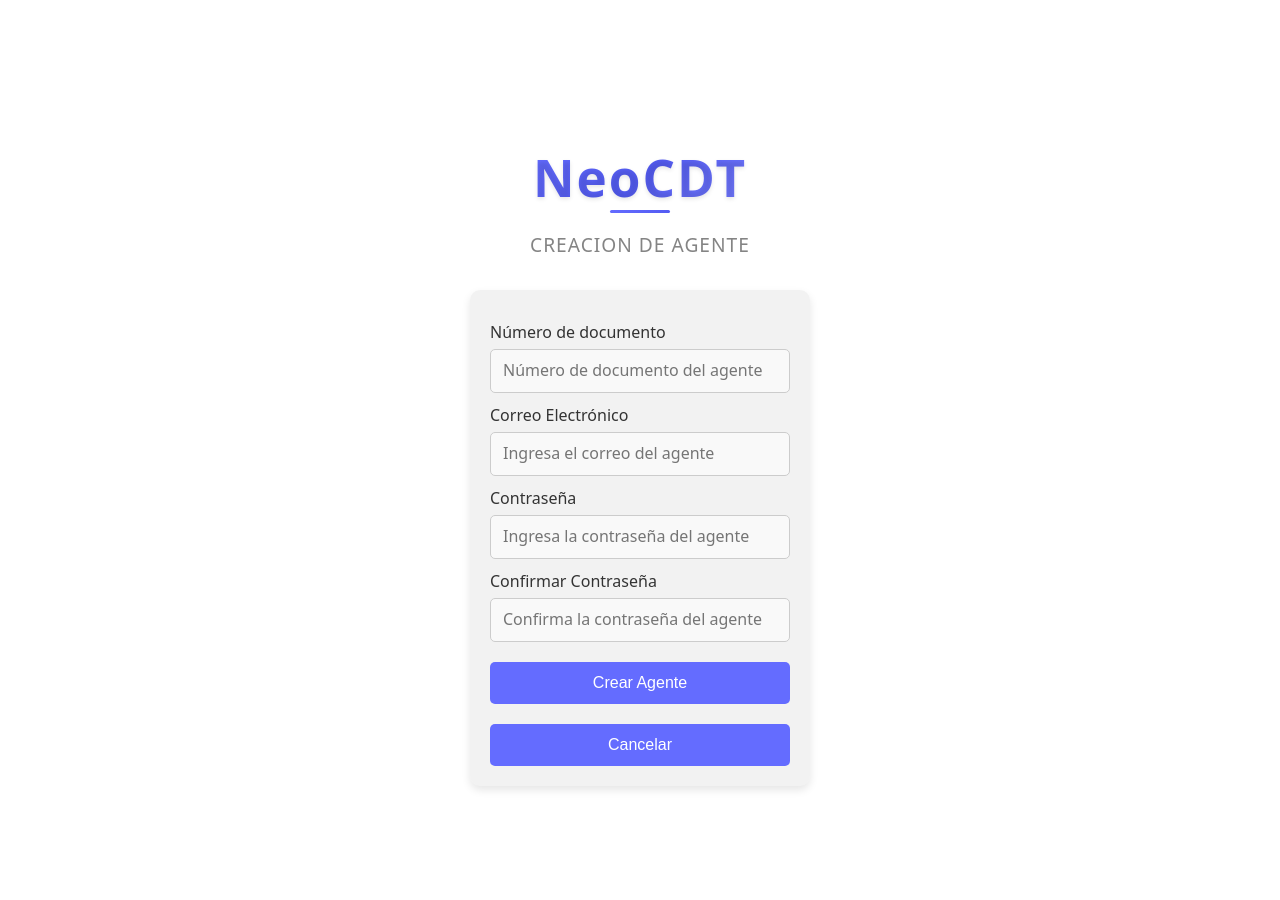
it: muestra popup de éxito cuando axios.post responde correctamente
This screenshot has width=1280, height=900.
llenar con datos válidos
In the field with placeholder "Número de documento del agente": (640, 371) [490,349,790,393], type "987654"
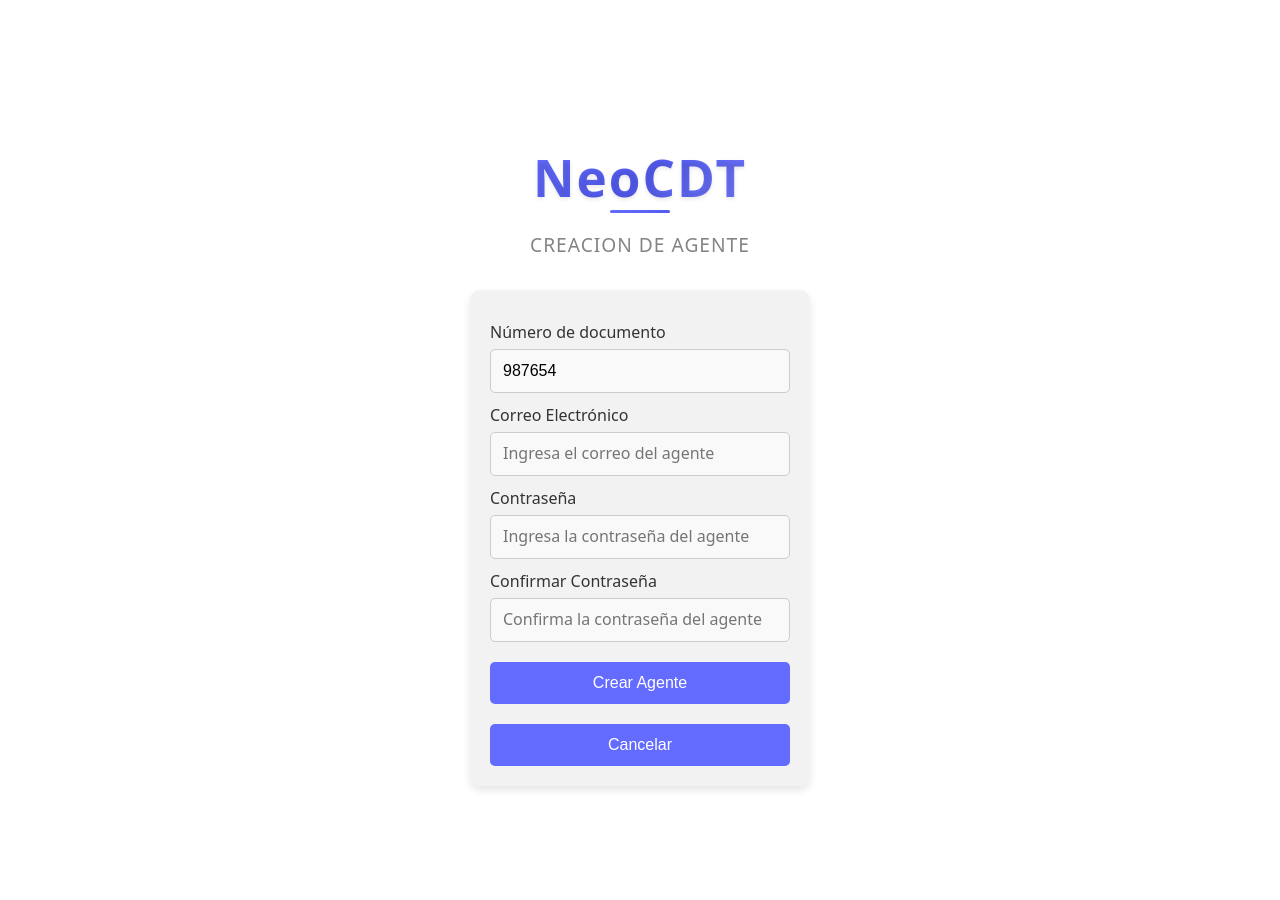
In the field with placeholder "Ingresa el correo del agente": (640, 454) [490,432,790,476], type "nuevoagente@test.com"
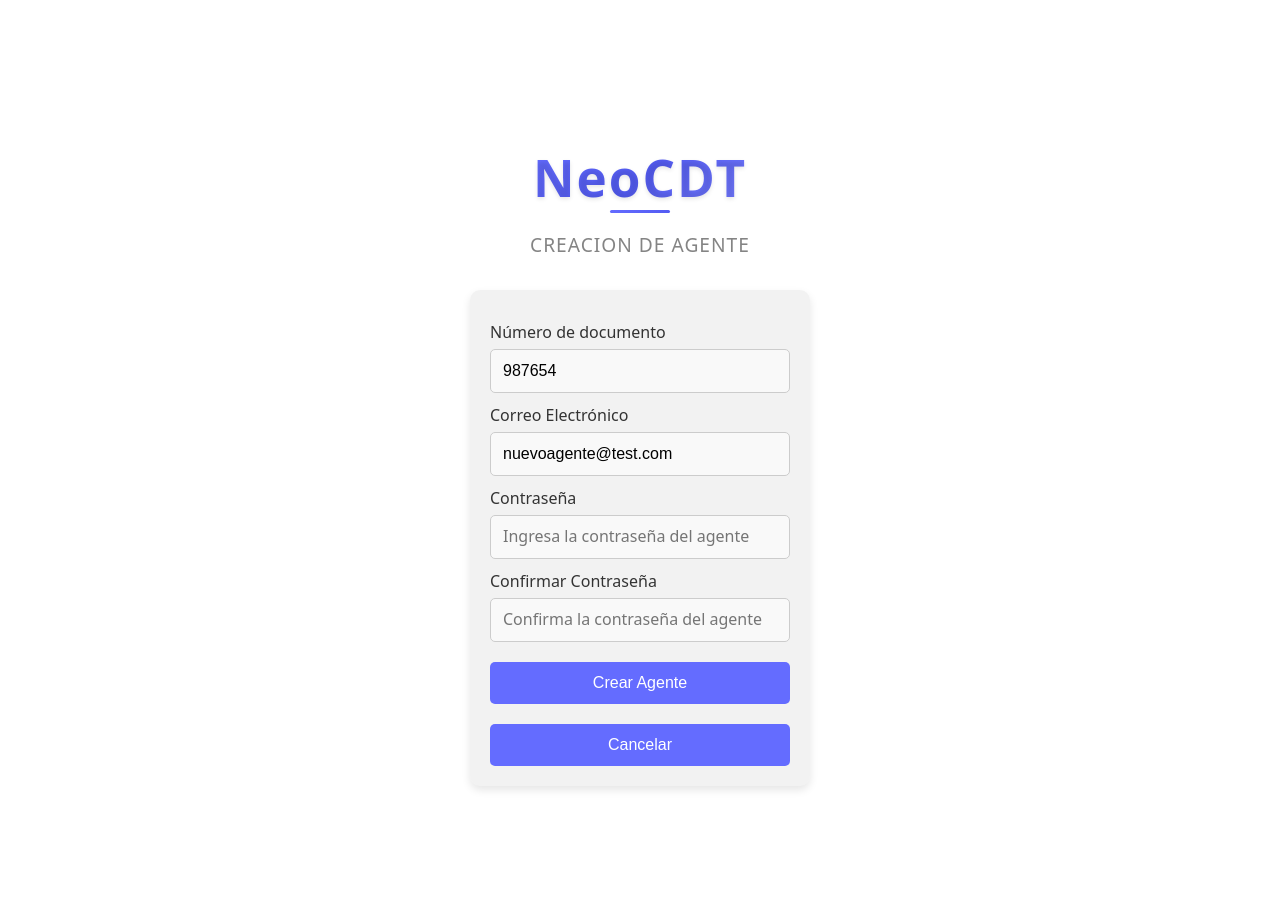
In the password field with placeholder "Ingresa la contraseña del agente": (640, 537) [490,515,790,559], type "Inicio2025*/"
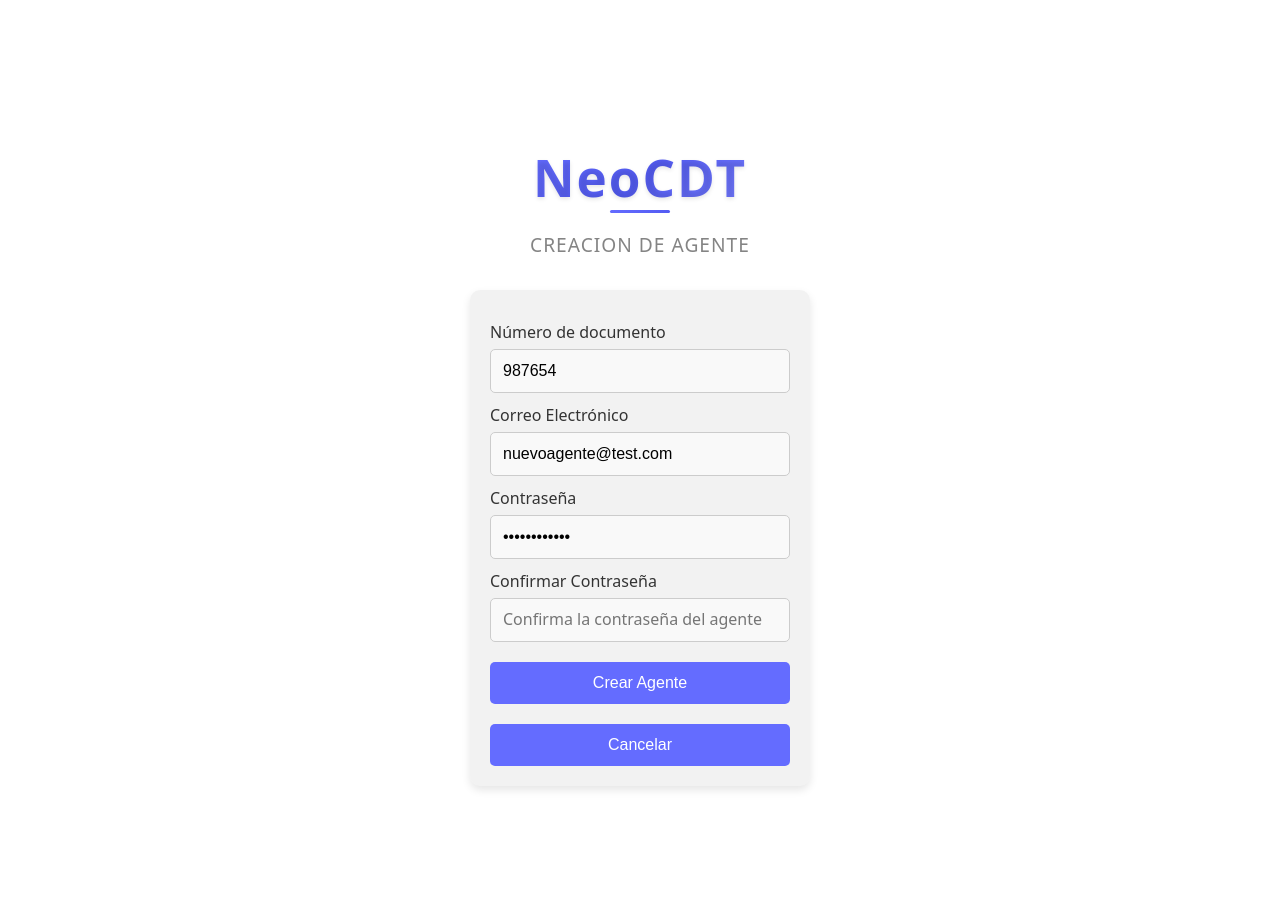
In the password field with placeholder "Confirma la contraseña del agente": (640, 620) [490,598,790,642], type "Inicio2025*/"
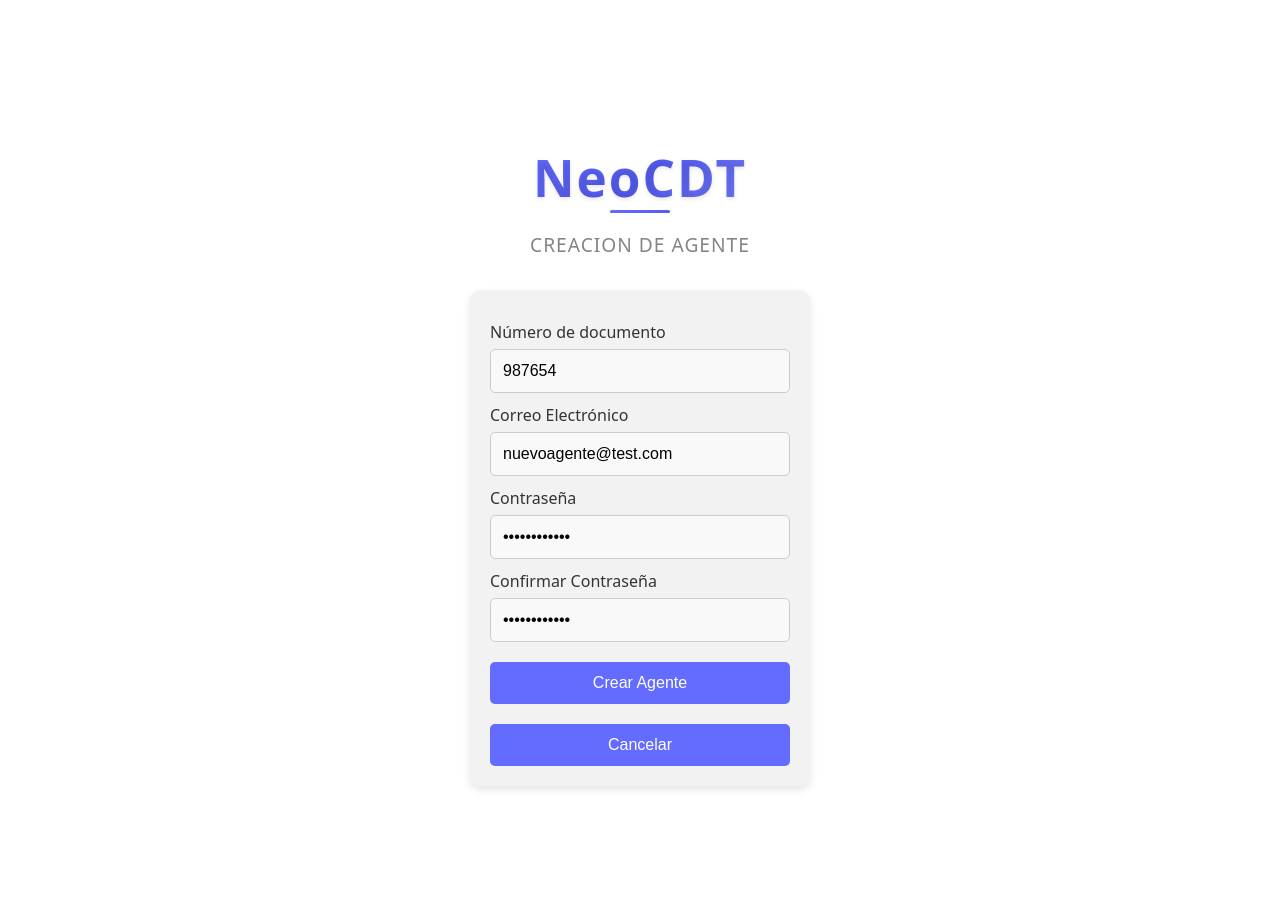
pulsar crear y esperar al popup de éxito
Click the button "Crear Agente": (640, 683) [490,662,790,704]
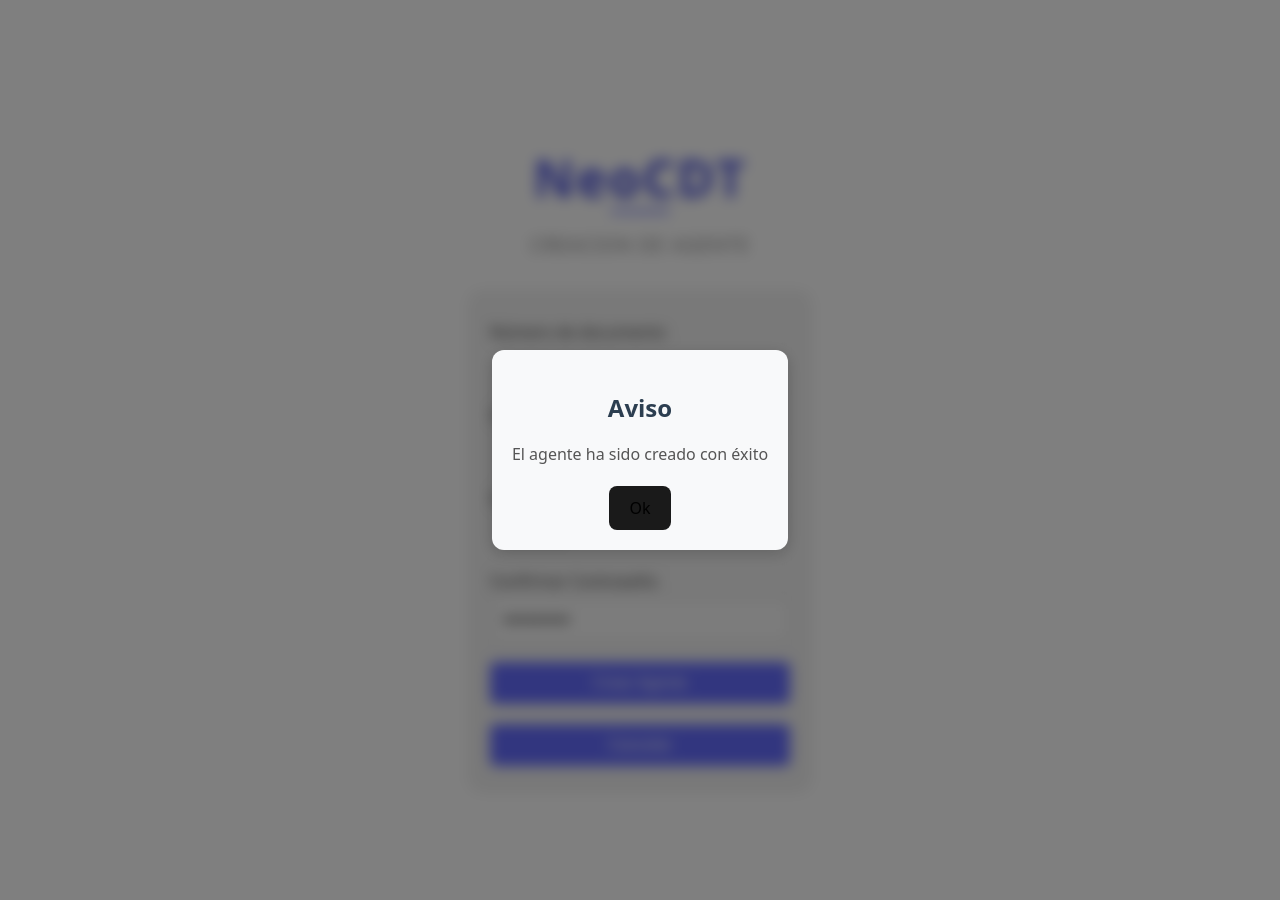
expect the text "El agente ha sido creado con éxito" is shown: met, box [512,442,768,466]
